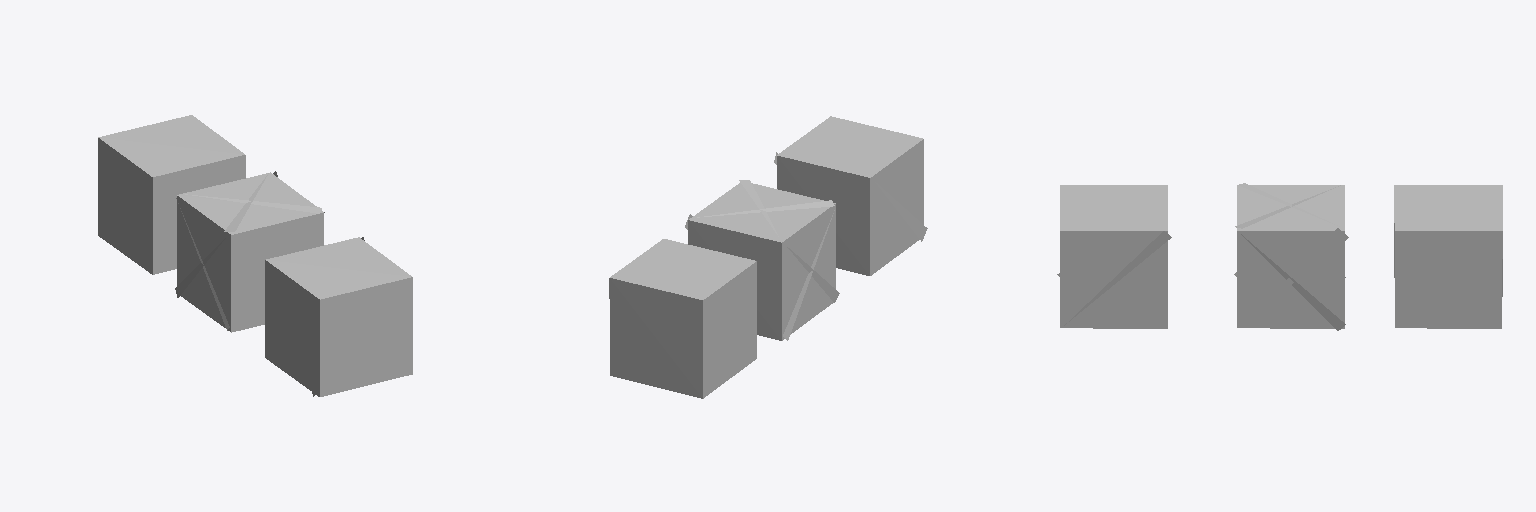
Rendered from caja_LoD_4.obj.
3 renders of one model, left to right at view 1: azimuth 30°, elevation 25°; view 2: azimuth 150°, elevation 25°; view 3: azimuth 270°, elevation 25°, orthographic.
Parts seen in each view (by area): view 1: Boxes; view 2: Boxes; view 3: Boxes.
Part boxes in pixels (bbox=[...]): Boxes: bbox=[98, 115, 412, 396]; Boxes: bbox=[609, 116, 927, 398]; Boxes: bbox=[1057, 183, 1502, 330].
Size of the model in its own units: 5.68 by 5.73 by 22.18.